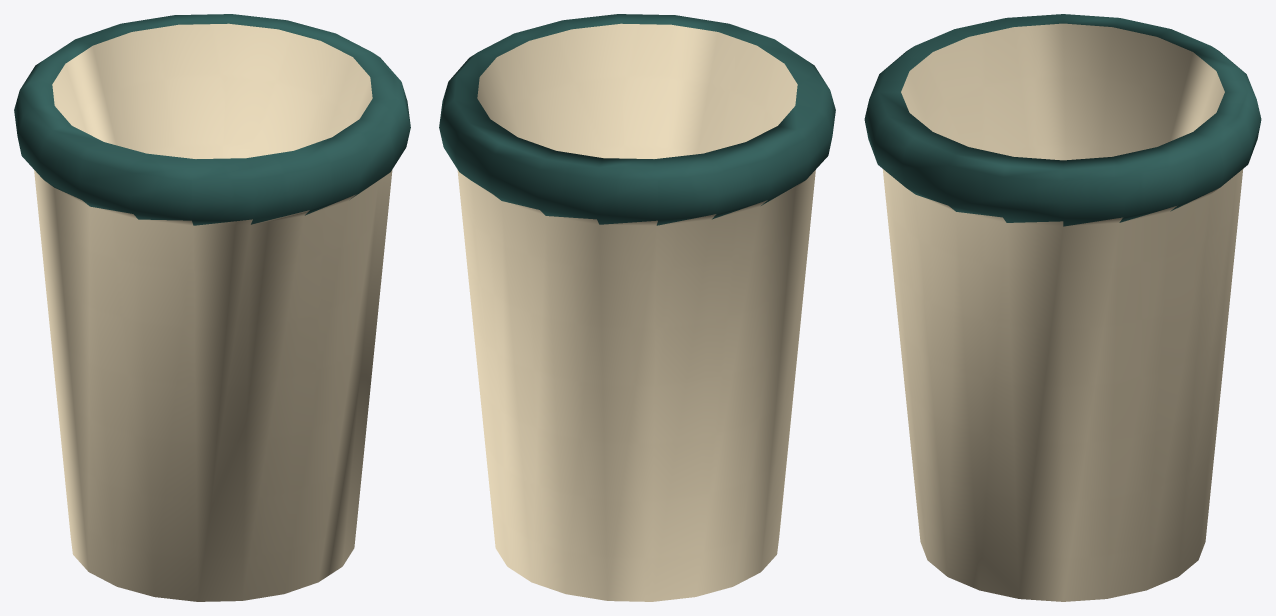
The model's file is P11_atlas_v1.glb.
3 views of the same model, side by side, from view 1: azimuth 30°, elevation 25°; view 2: azimuth 150°, elevation 25°; view 3: azimuth 270°, elevation 25° (orthographic).
Parts seen in each view (by area): view 1: P11_GeometryCandidate; view 2: P11_GeometryCandidate; view 3: P11_GeometryCandidate.
Boxes of the visible parts, bbox=[...] form: P11_GeometryCandidate: bbox=[14, 14, 410, 601]; P11_GeometryCandidate: bbox=[439, 14, 835, 601]; P11_GeometryCandidate: bbox=[864, 14, 1261, 601].
Bounding box in the file's own units: 2 × 2.5 × 2.
Materials: 1 (1 with a texture image).
